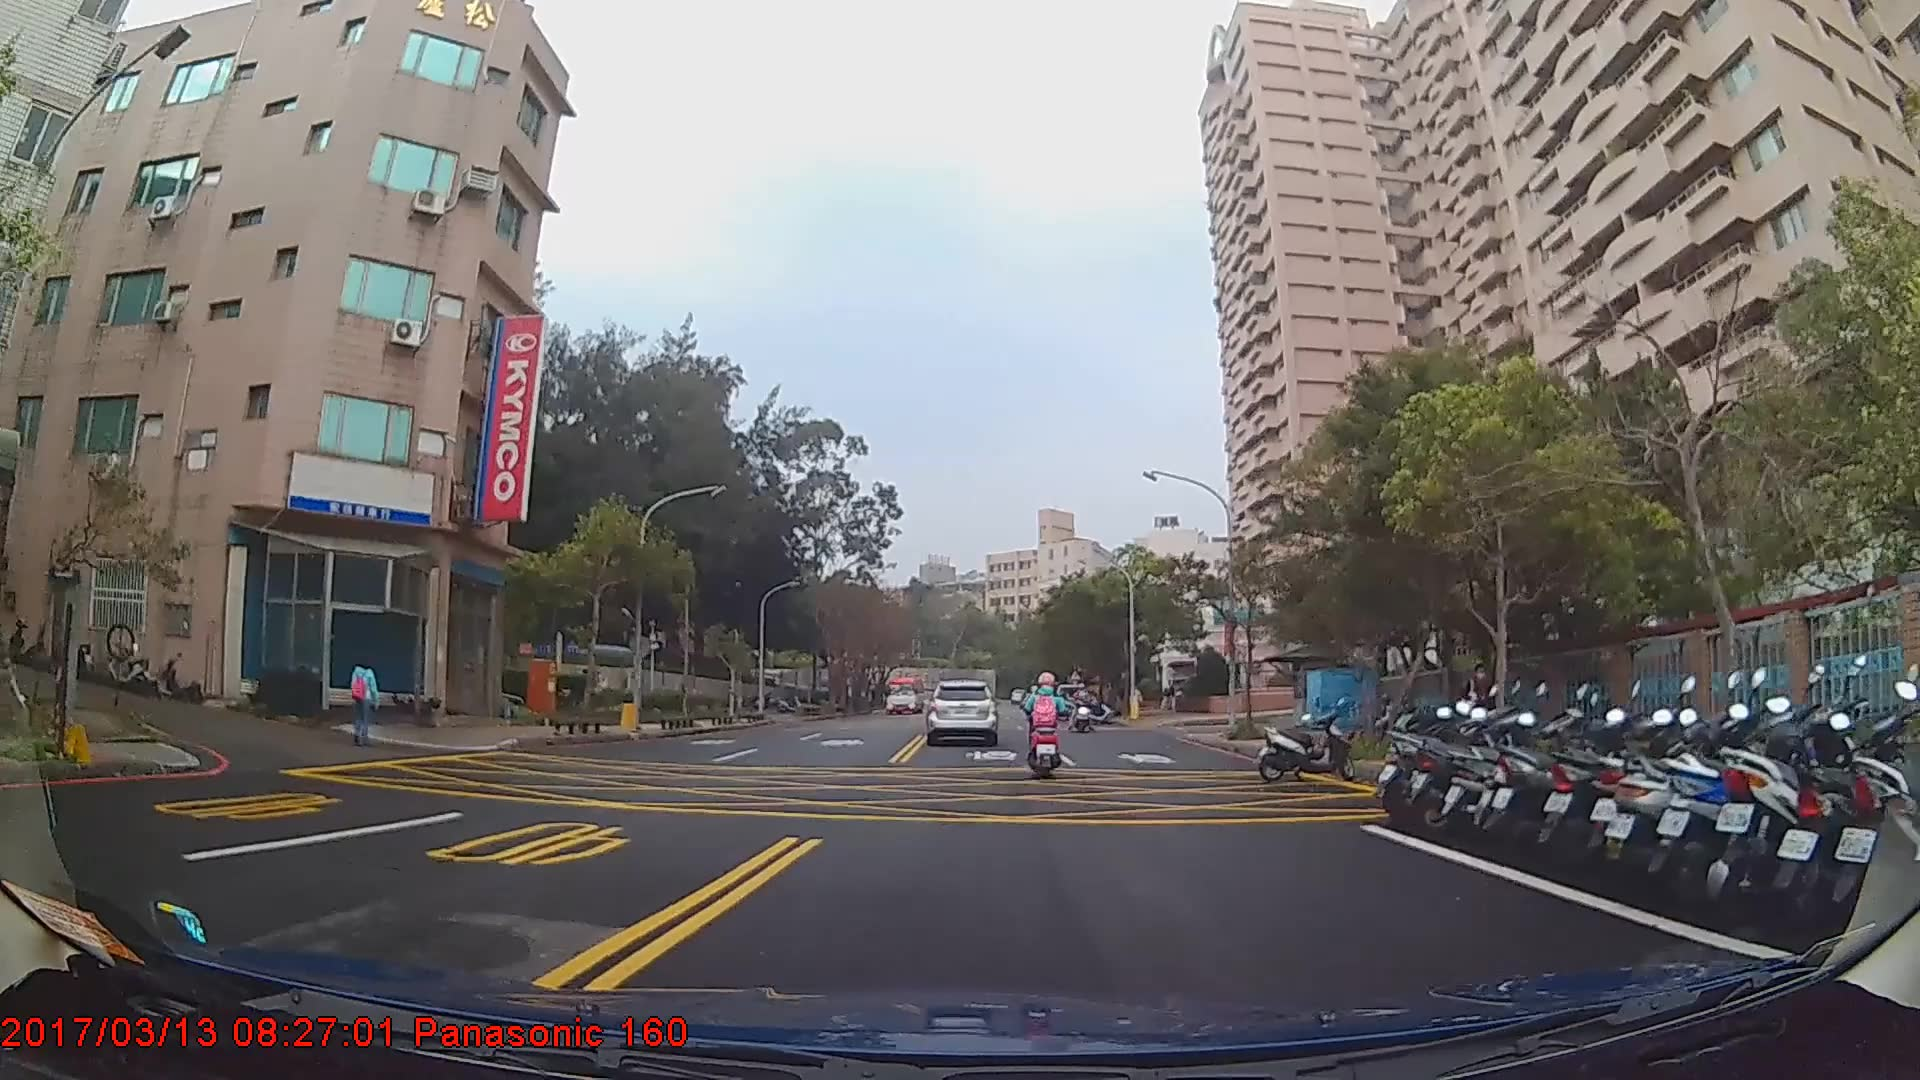pedestrian: (1459, 663, 1495, 751), (350, 650, 382, 747)
rider: (1023, 662, 1070, 776), (1070, 684, 1094, 733)
vehicle: (924, 678, 997, 744), (883, 675, 925, 714)
